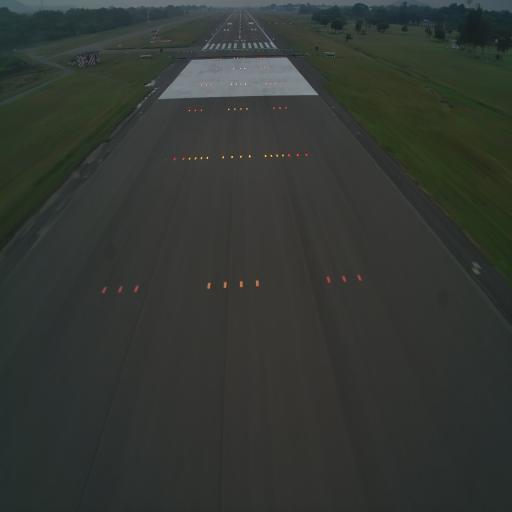off: (470, 260, 482, 280), (162, 156, 168, 164)
on: (100, 283, 108, 297), (116, 282, 124, 296), (133, 282, 141, 296), (238, 277, 244, 293), (222, 277, 228, 291), (206, 279, 212, 292), (357, 272, 363, 285), (341, 274, 347, 285), (326, 275, 331, 288), (254, 278, 260, 288), (304, 150, 309, 159), (281, 150, 285, 159), (193, 154, 197, 162), (200, 155, 204, 163), (172, 156, 176, 163), (222, 154, 226, 161), (263, 153, 267, 160), (181, 156, 185, 162), (188, 154, 191, 162), (206, 154, 209, 162), (248, 152, 251, 160), (276, 151, 279, 159), (287, 152, 291, 158), (296, 152, 300, 158), (230, 155, 234, 160), (239, 154, 242, 160), (270, 152, 272, 160)
